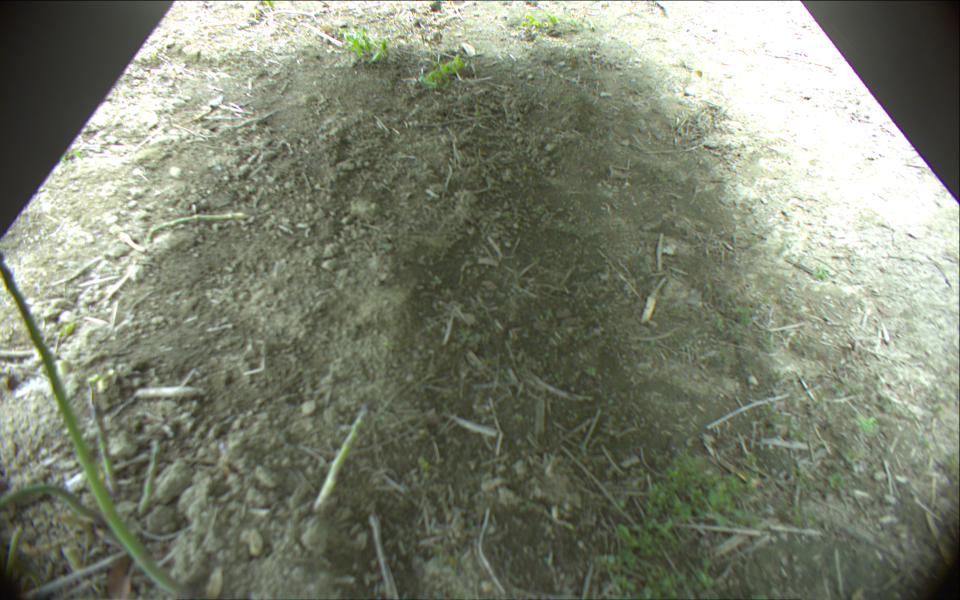aspa: (1, 249, 190, 600), (314, 405, 370, 509), (86, 377, 118, 493), (144, 211, 249, 243), (139, 435, 159, 512)
